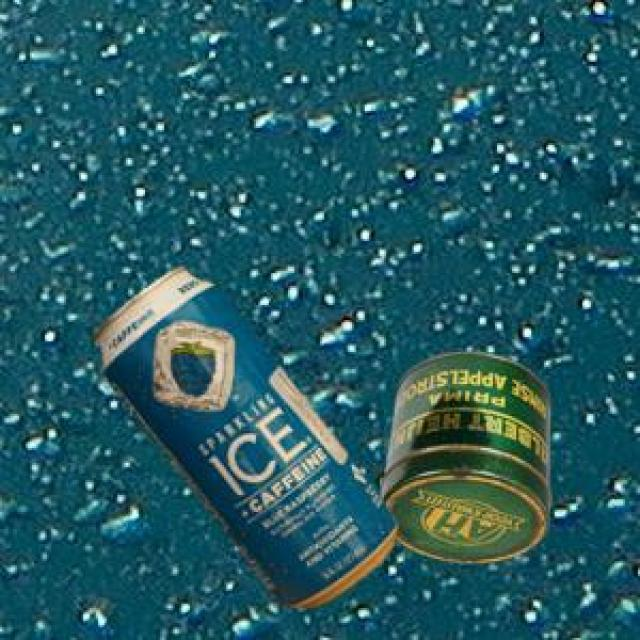Can: (91, 263, 394, 605), (379, 349, 547, 560)
